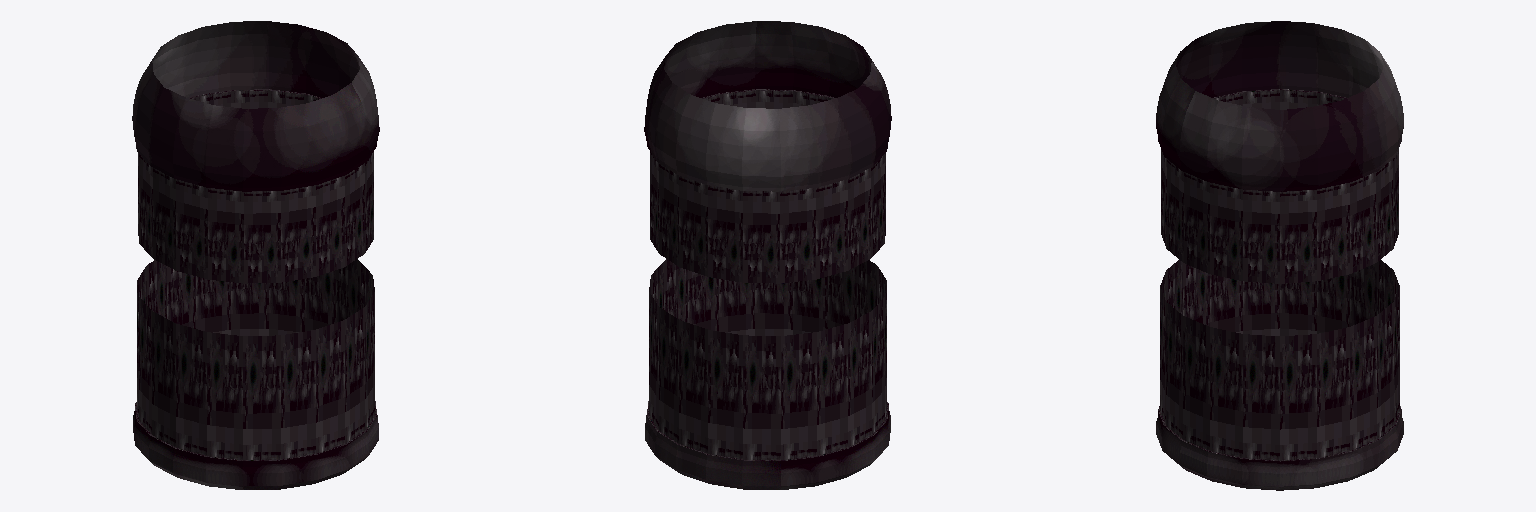
3 views of the same model, side by side, from view 1: azimuth 30°, elevation 25°; view 2: azimuth 150°, elevation 25°; view 3: azimuth 270°, elevation 25° (orthographic).
Parts seen in each view (by area): view 1: darkglassmesh1; view 2: darkglassmesh1; view 3: darkglassmesh1.
Boxes of the visible parts, <box> form: darkglassmesh1: <box>132,21,379,489</box>; darkglassmesh1: <box>644,21,891,489</box>; darkglassmesh1: <box>1156,21,1403,490</box>.
Size of the model in its own units: 0.6493 by 1.1 by 0.6493.
Materials: 1 (1 with a texture image).